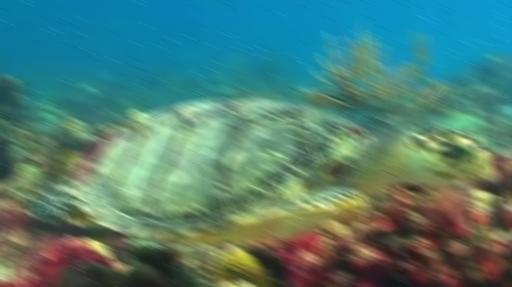Fish: (28, 99, 493, 242)
